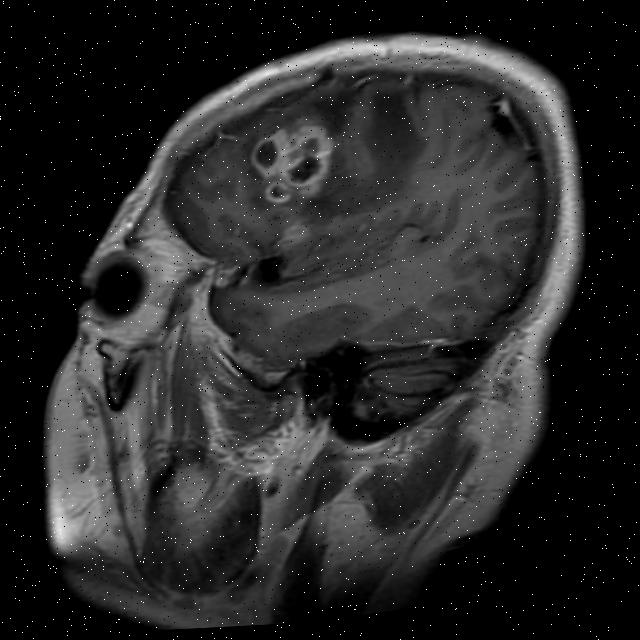Glioma: (279, 113, 338, 192), (246, 133, 286, 180), (262, 177, 291, 206)
